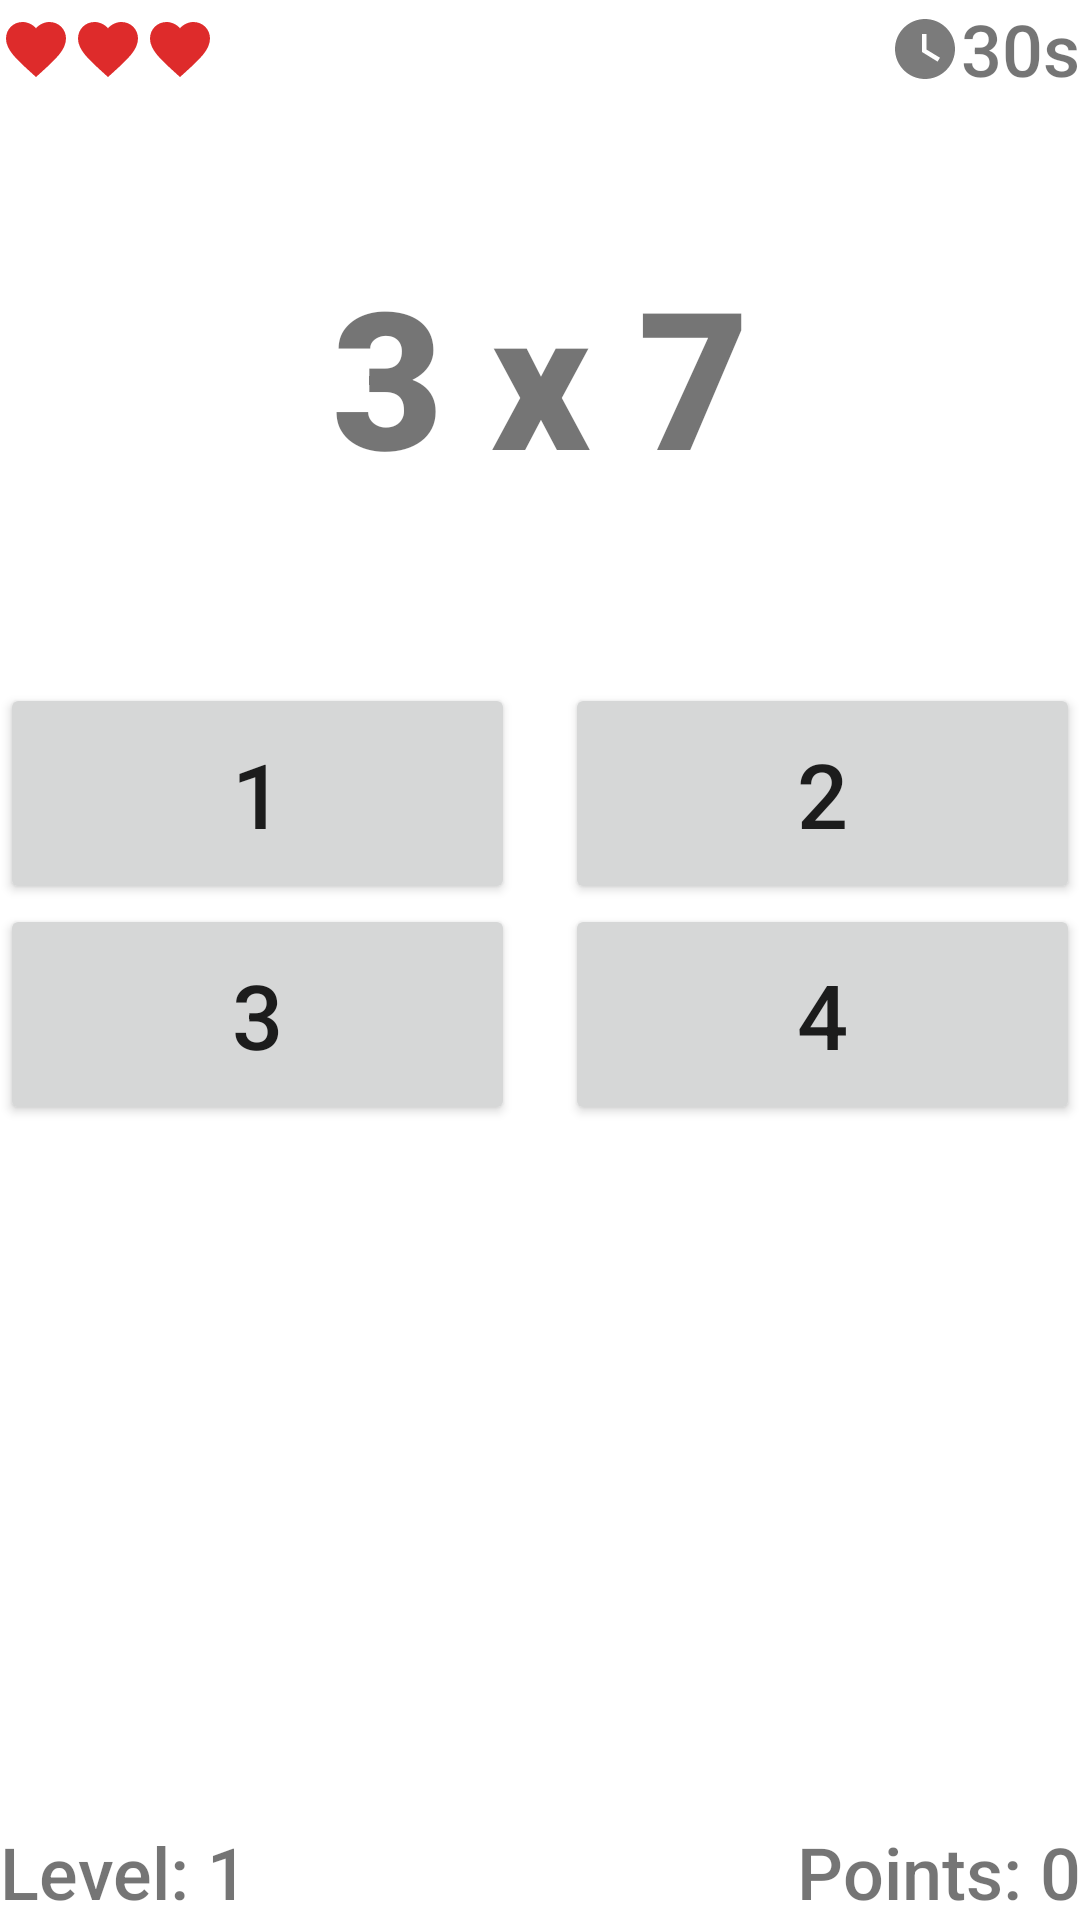

Named icons in this screenshot (1080x1920) and their centers, (x,y):
heart: (36,49), (108,49), (180,49)
time: (925,49)
